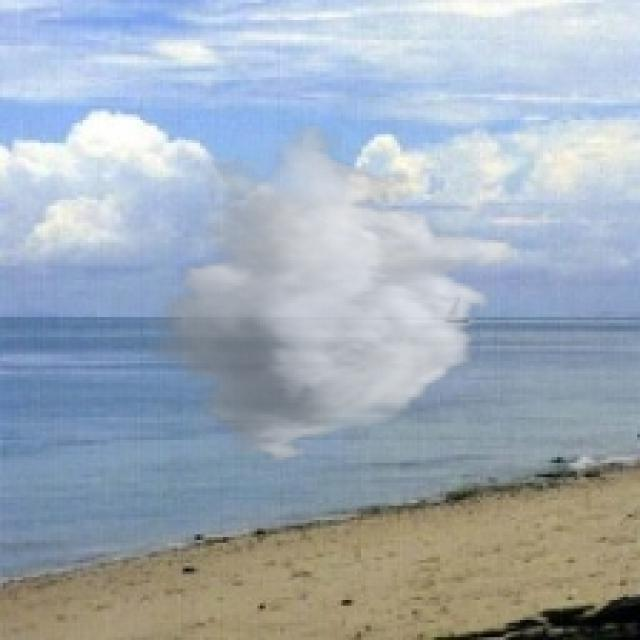Smoke: (137, 123, 514, 466)
